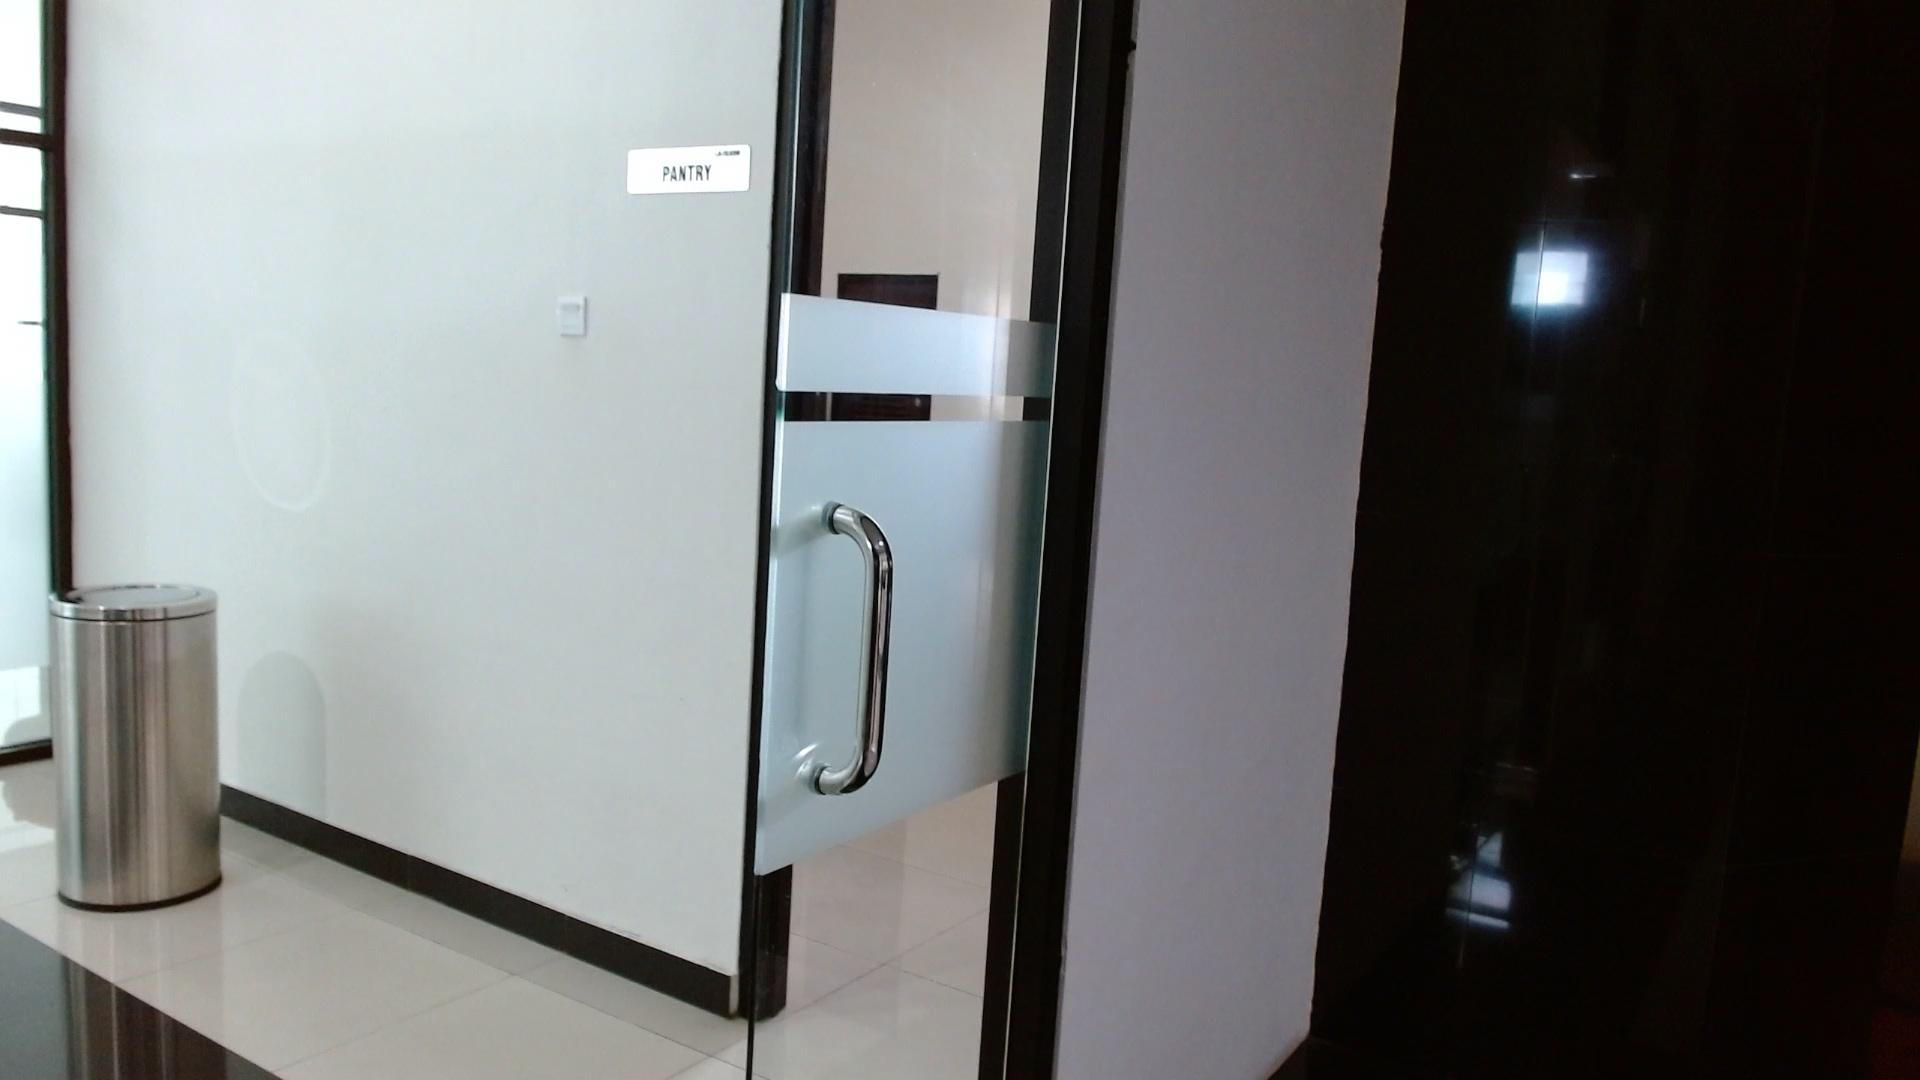plate: (625, 144, 752, 195)
